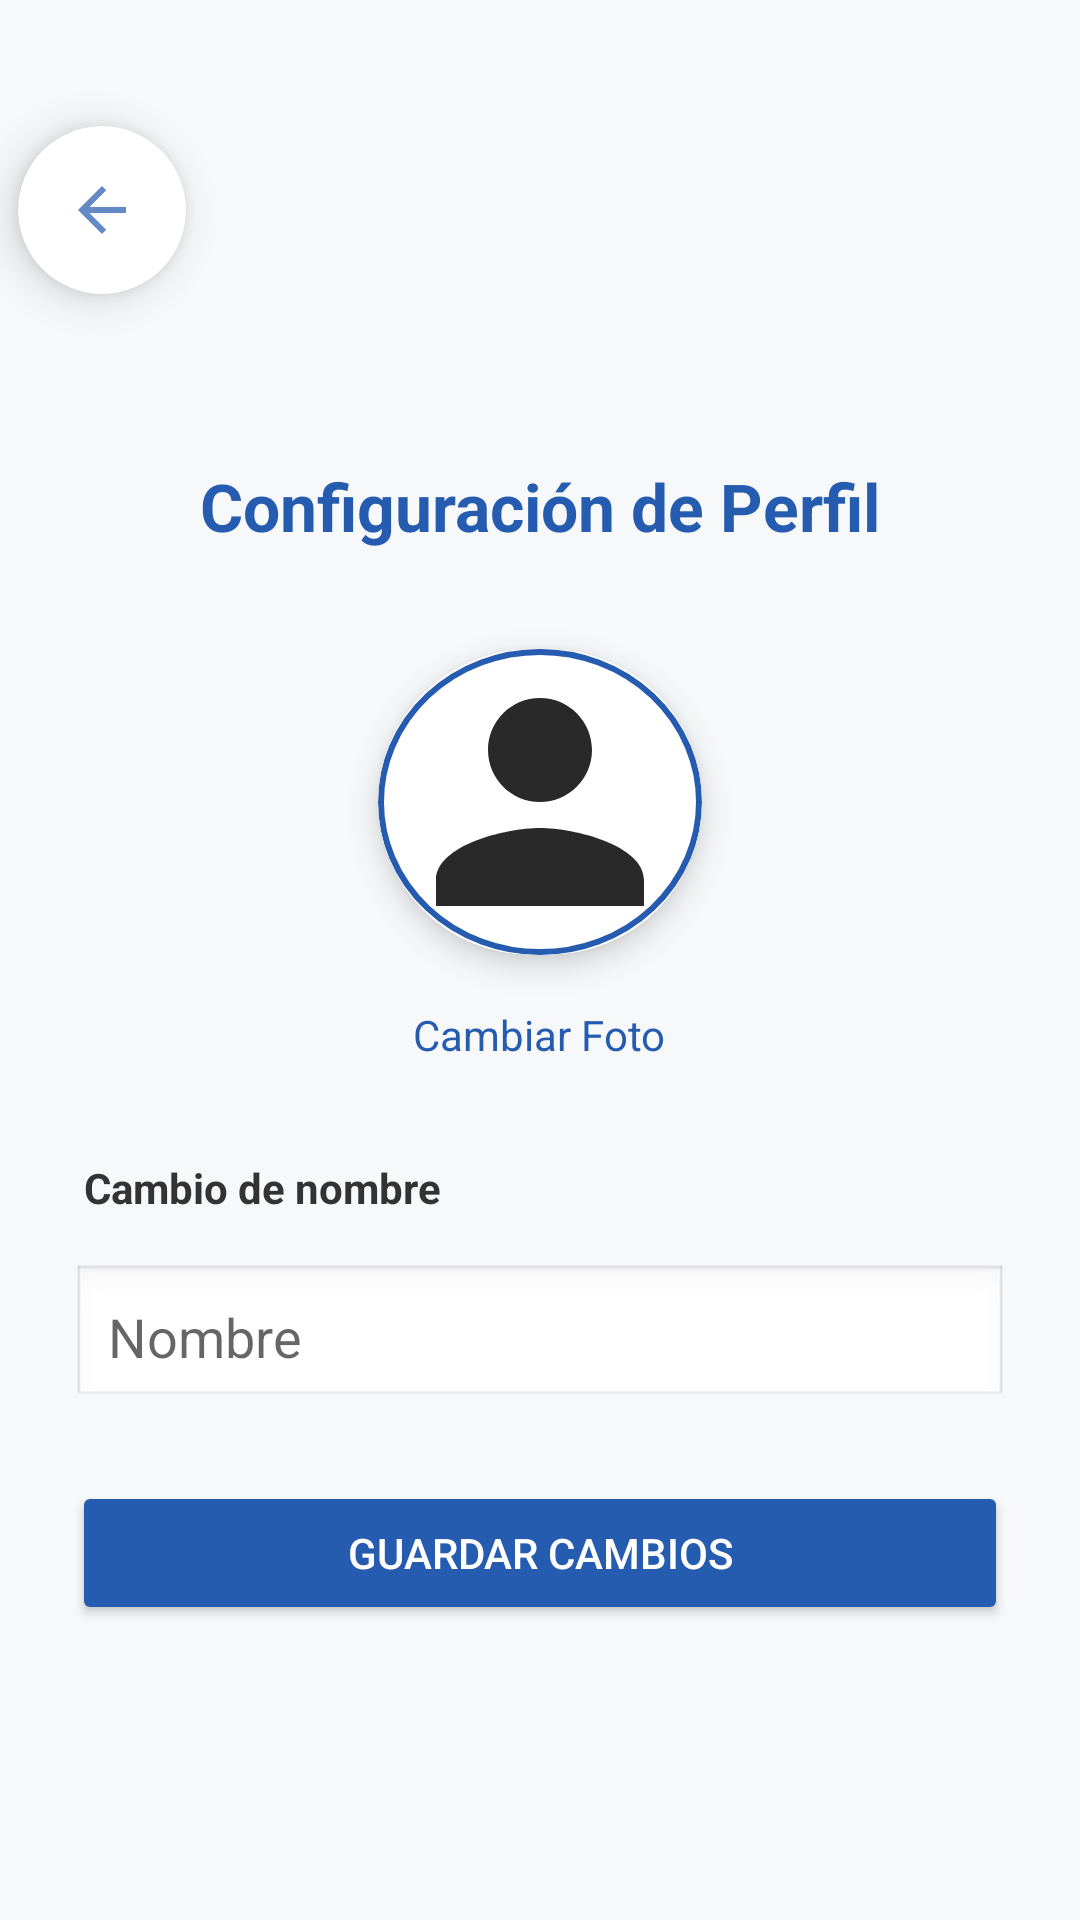

Named icons in this screenshot (1080 x 1920) and their centers, point (x, y):
Atrás: point (102, 210)
Imagen de perfil del usuario: point (540, 802)
